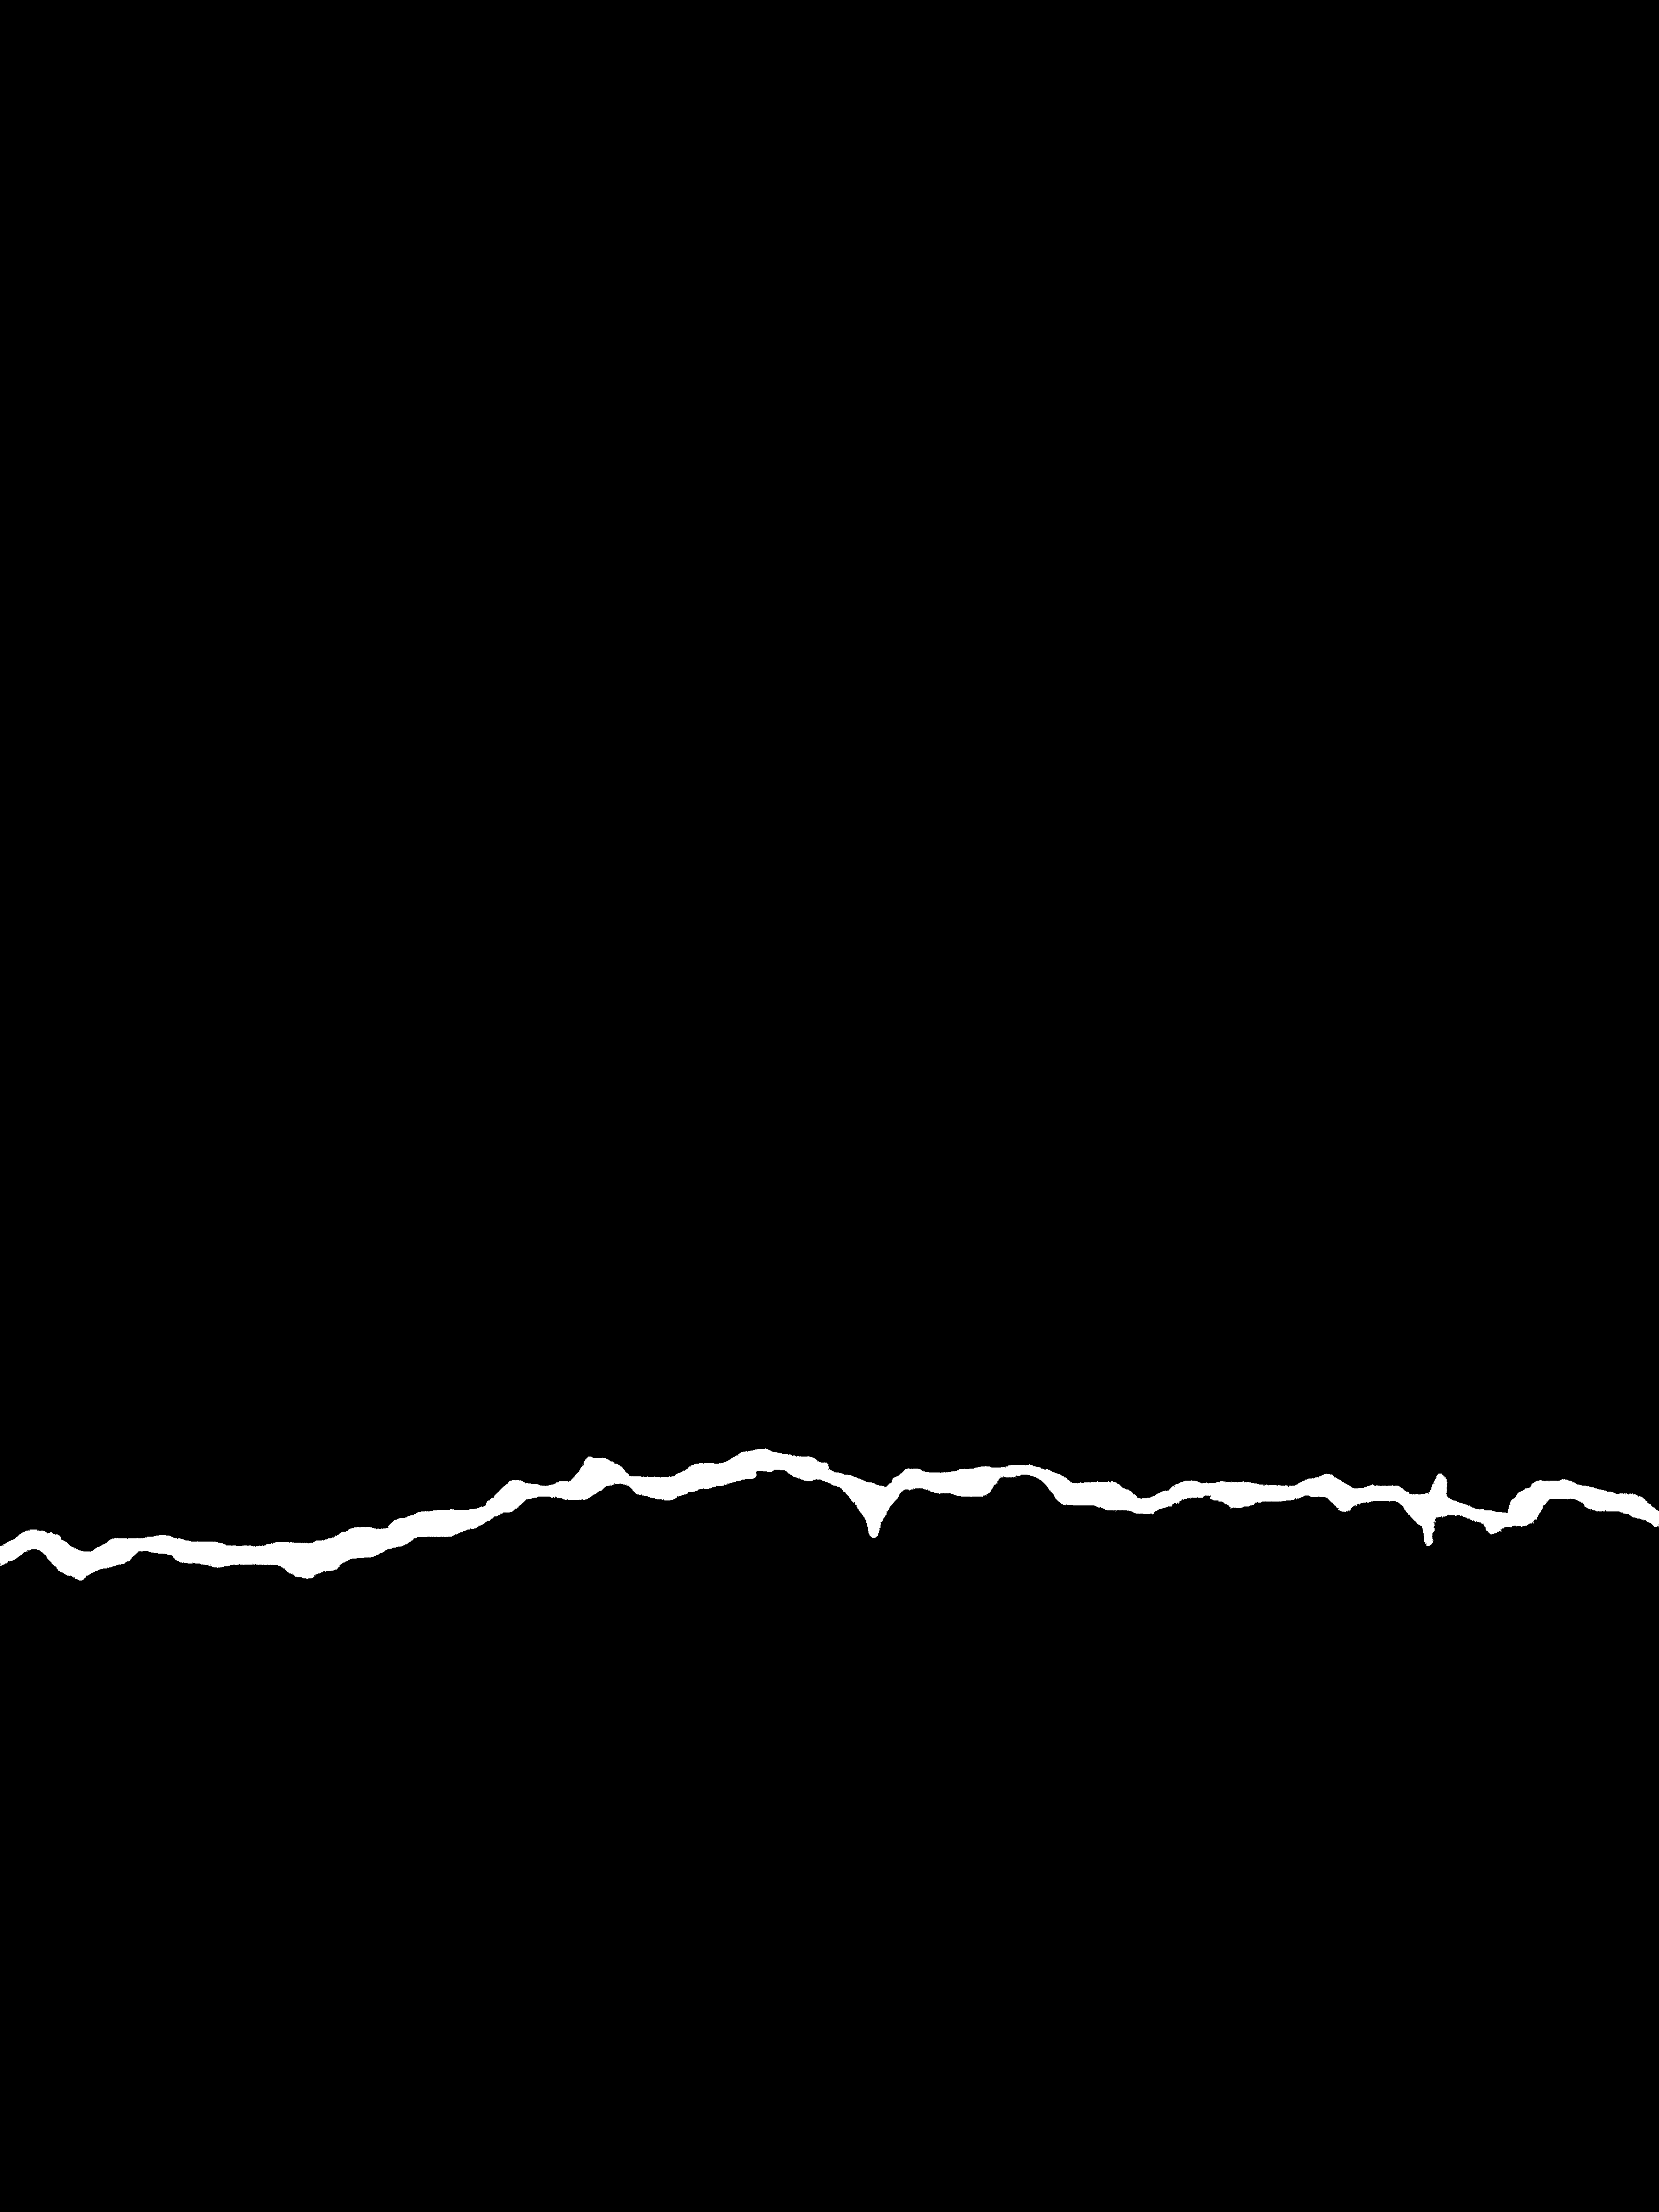Crack: (0, 1423, 1659, 1608)
